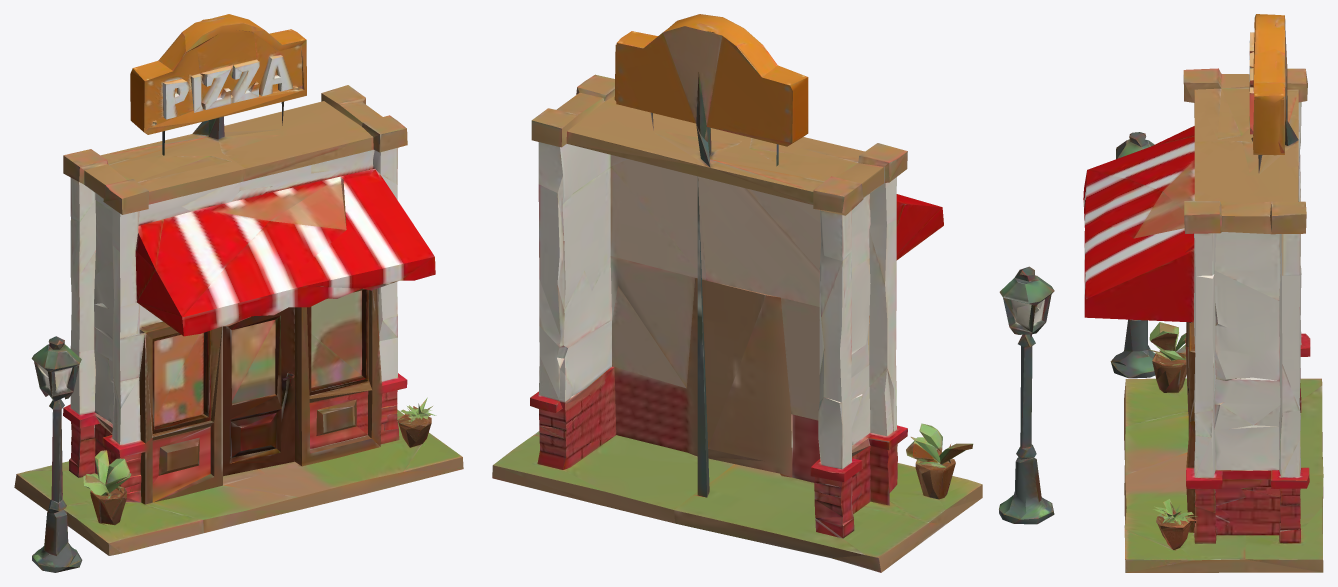
The model's file is pizzeria.glb.
3 renders of one model, left to right at view 1: azimuth 30°, elevation 25°; view 2: azimuth 150°, elevation 25°; view 3: azimuth 270°, elevation 25°, orthographic. The views are drawn at different scales.
Size of the model in its own units: 1.9 by 1.9 by 0.8903.
1 material, 1 textured.
